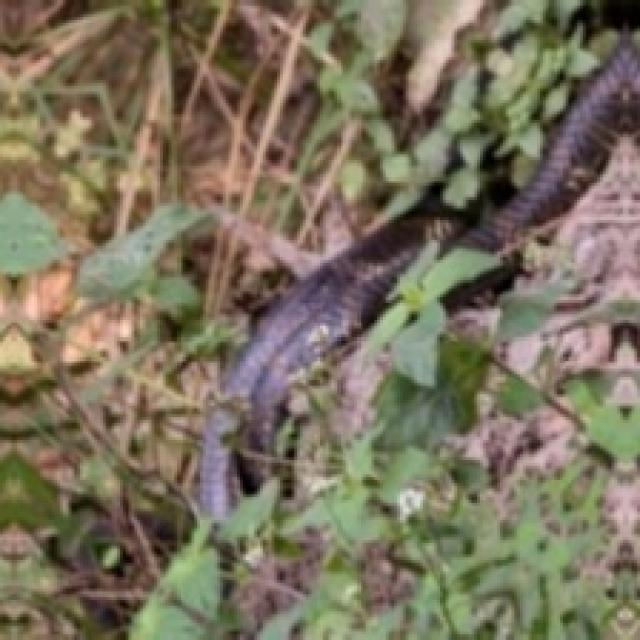king cobra: (200, 197, 457, 517), (454, 34, 637, 251)
